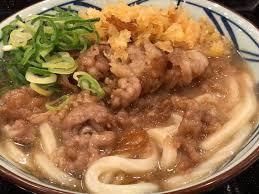niku: (1, 1, 259, 192)
